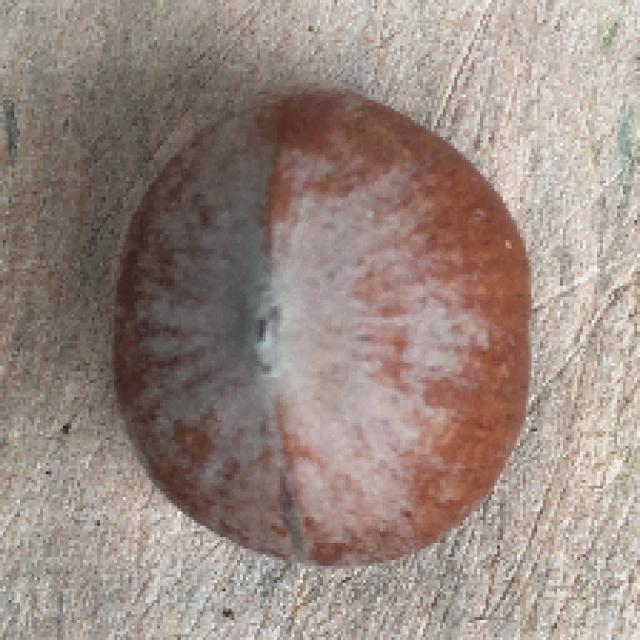qualityHazelnut: (110, 60, 531, 575)
